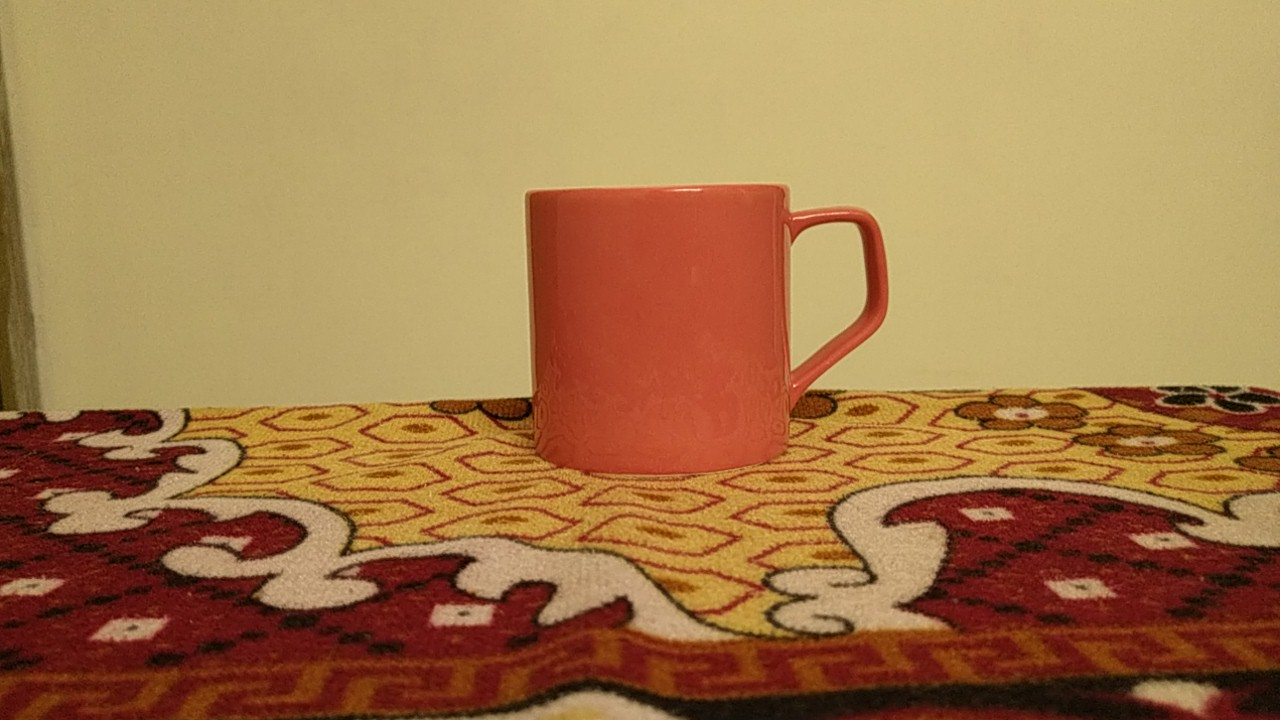cup: (515, 168, 899, 493)
